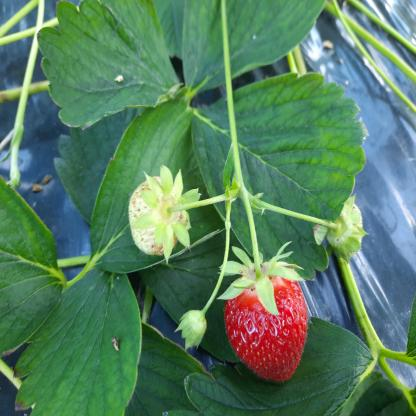ripe: (226, 255, 308, 379)
unripe: (129, 180, 189, 252), (327, 200, 370, 250)
